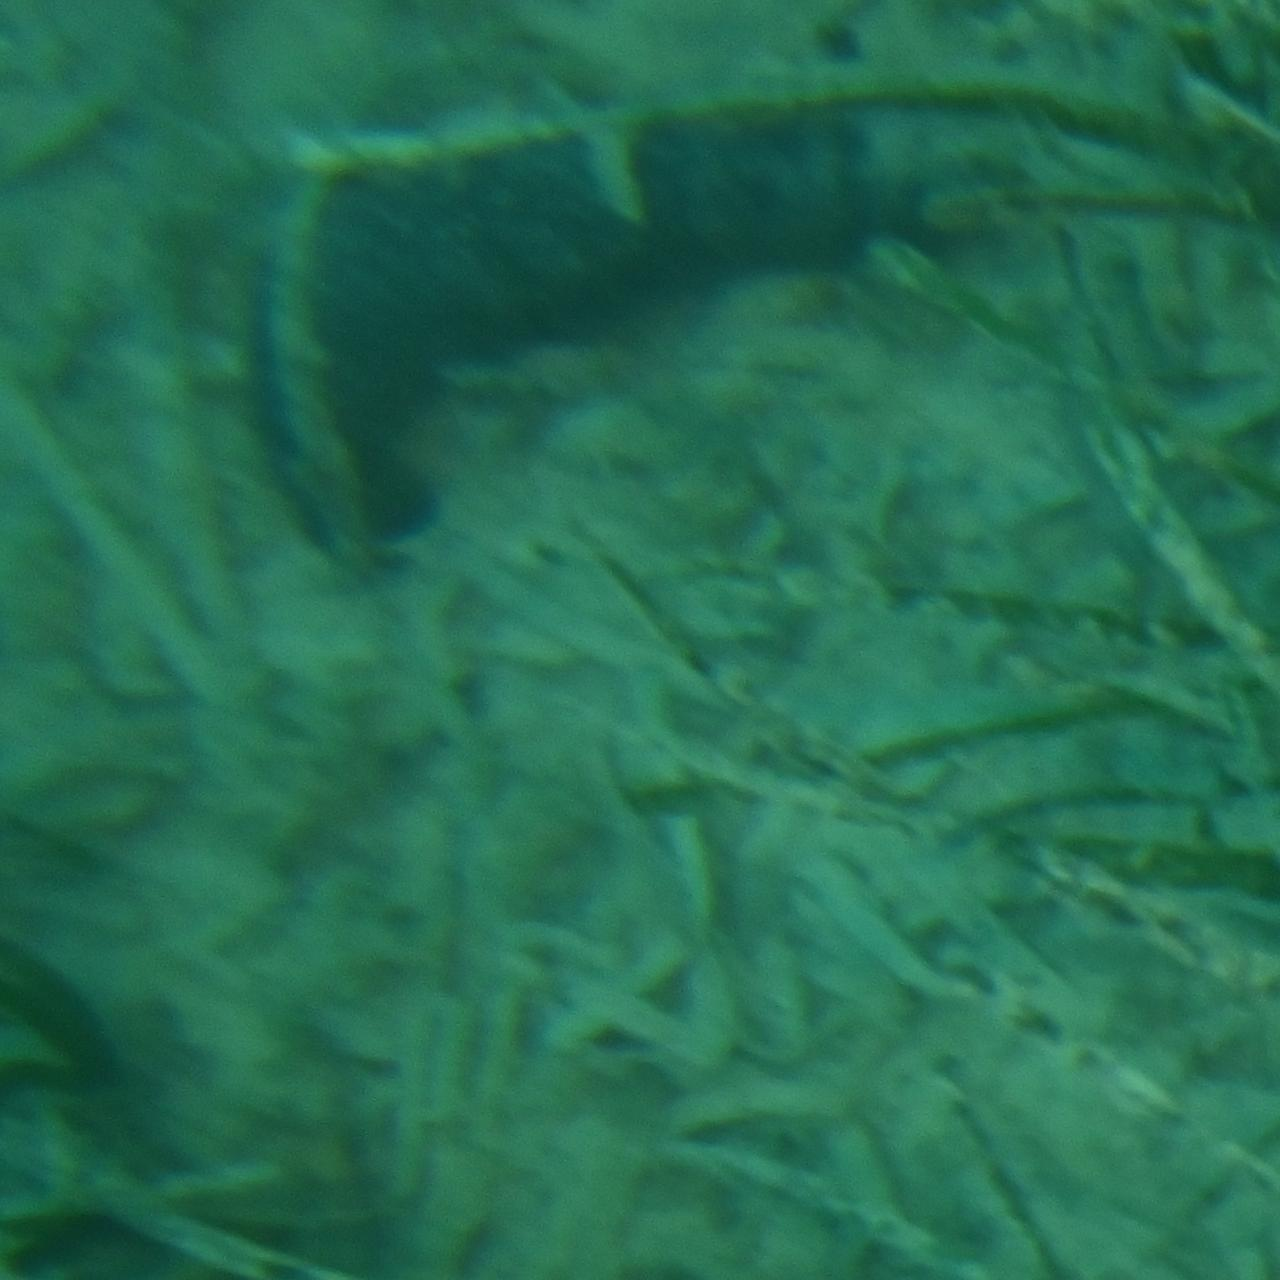Holothuria tubulosa: (244, 91, 1036, 556)
